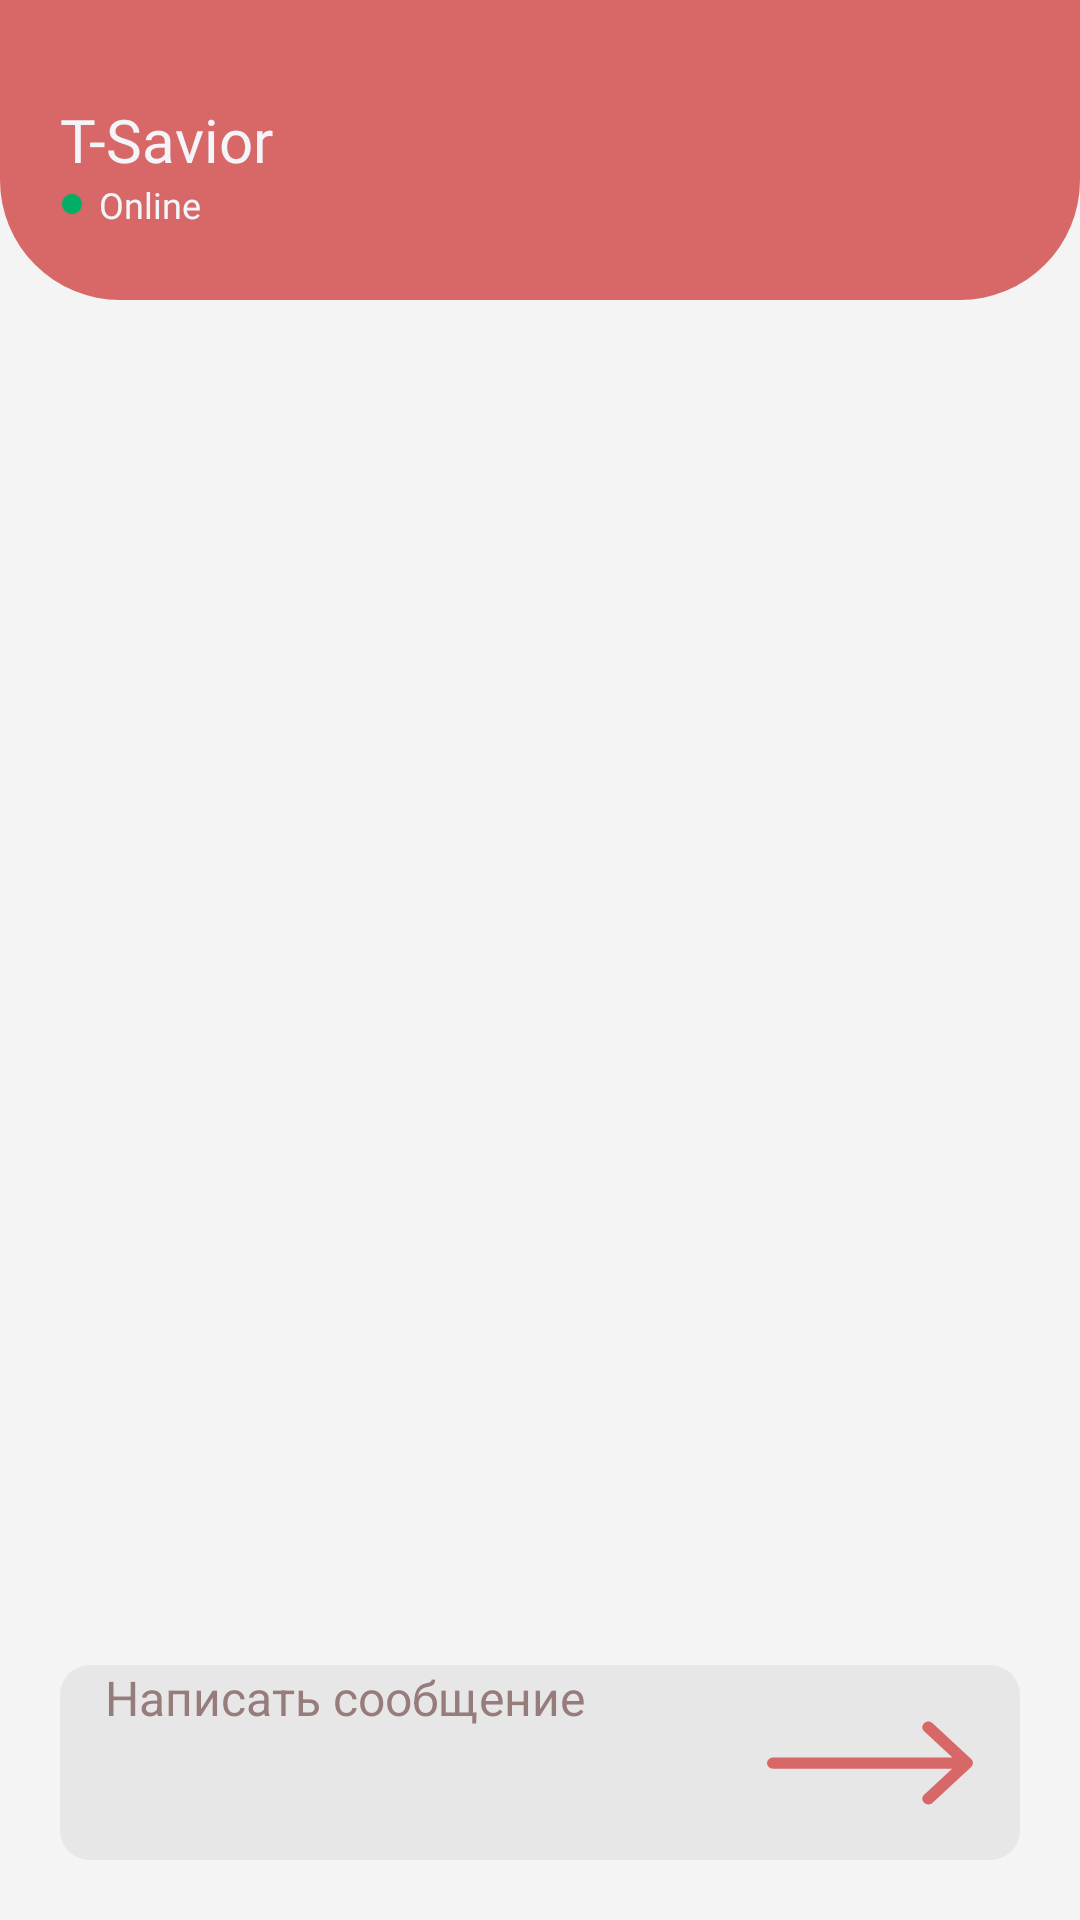

Icons on this 1080px x 1920px Android screen, each with its box as (x1, y1, x2, y2):
arrow send: (767, 1721, 973, 1805)
